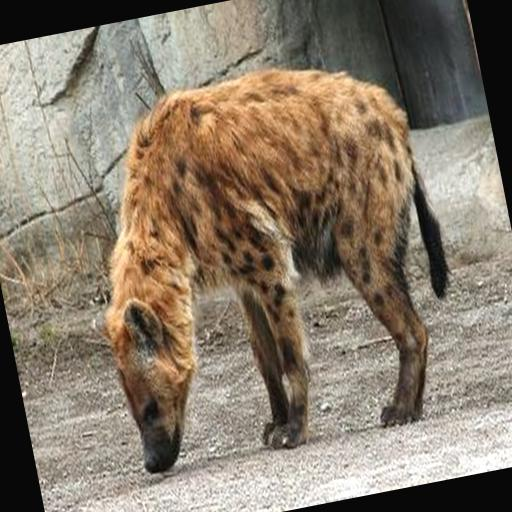hyenas: (44, 16, 488, 494)
